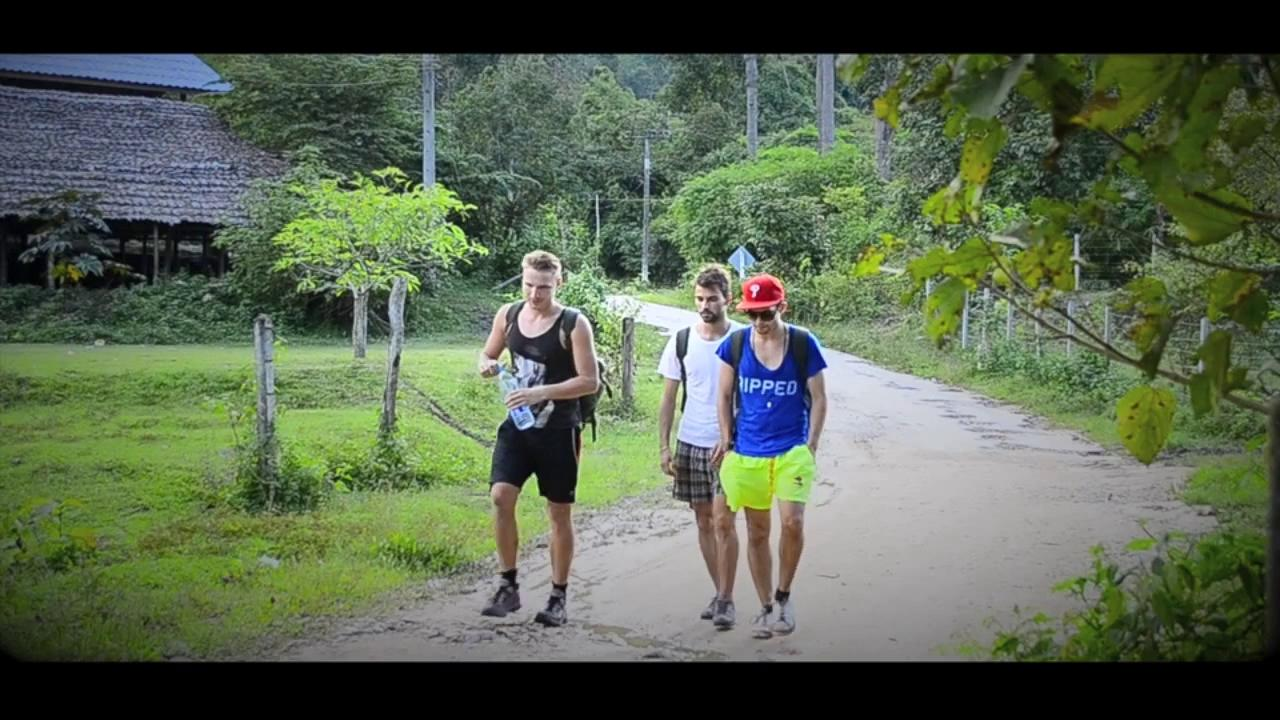victim: (463, 250, 609, 636), (716, 276, 832, 646), (652, 265, 752, 636)
